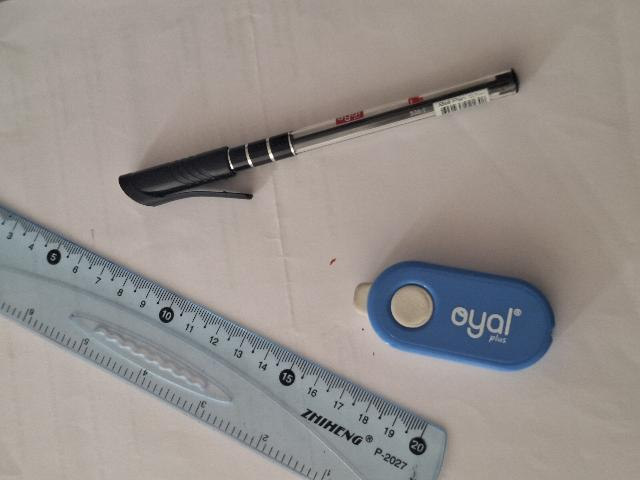writing_tool: (117, 66, 520, 212)
